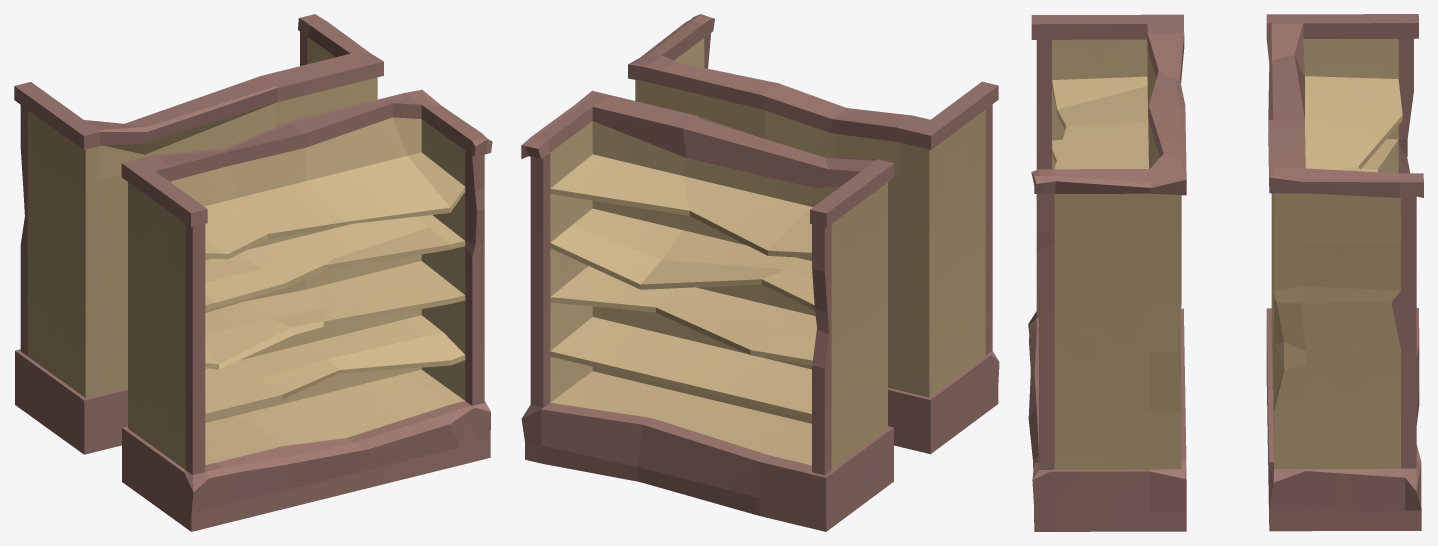
Rendered from shelf_3_B.glb.
3 views of the same model, side by side, from view 1: azimuth 30°, elevation 25°; view 2: azimuth 150°, elevation 25°; view 3: azimuth 270°, elevation 25° (orthographic). The views are drawn at different scales.
Visible parts, largest first — view 1: shelf_3_B; view 2: shelf_3_B; view 3: shelf_3_B.
Part boxes in pixels (box(x1,y1,x2,y2)): shelf_3_B: box(14, 14, 492, 531); shelf_3_B: box(521, 14, 999, 531); shelf_3_B: box(1028, 14, 1423, 531).
Size of the model in its own units: 1.22 by 1.23 by 1.23.
1 material, 1 textured.
